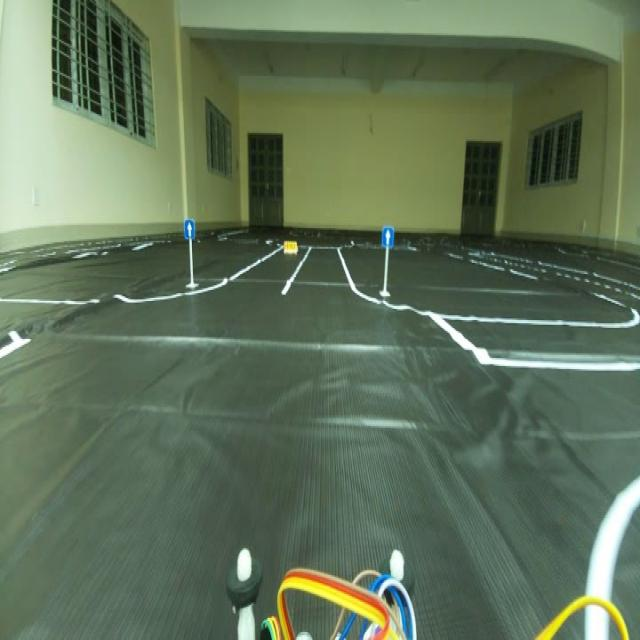onewayroad: (379, 221, 398, 251), (180, 214, 193, 245)
roadblock: (280, 234, 301, 256)
